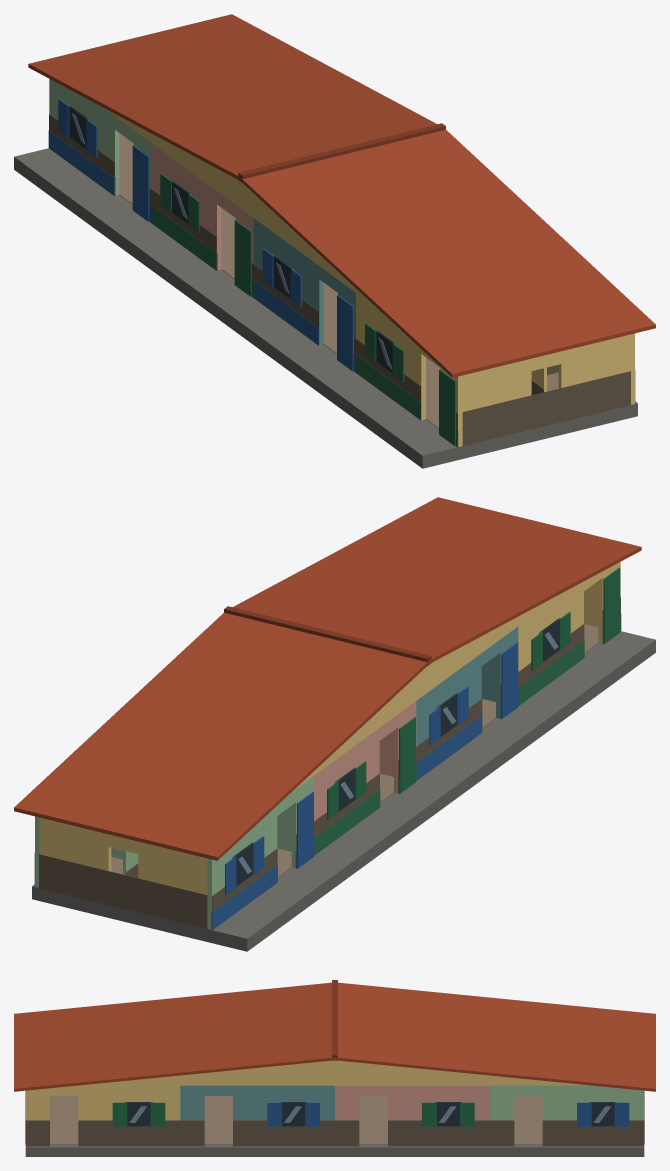
File: vila_operaria_a.glb
3 views of the same model, one above another, from view 1: azimuth 30°, elevation 25°; view 2: azimuth 150°, elevation 25°; view 3: azimuth 270°, elevation 25° (orthographic). The views are drawn at different scales.
Visible parts, largest first — view 1: vila_operaria_a; view 2: vila_operaria_a; view 3: vila_operaria_a.
Part boxes in pixels (x1,y1,x2,y2): vila_operaria_a: [14, 14, 655, 468]; vila_operaria_a: [14, 497, 655, 951]; vila_operaria_a: [14, 980, 655, 1156].
Bounding box in the file's own units: 7.65 × 4.52 × 24.9.
